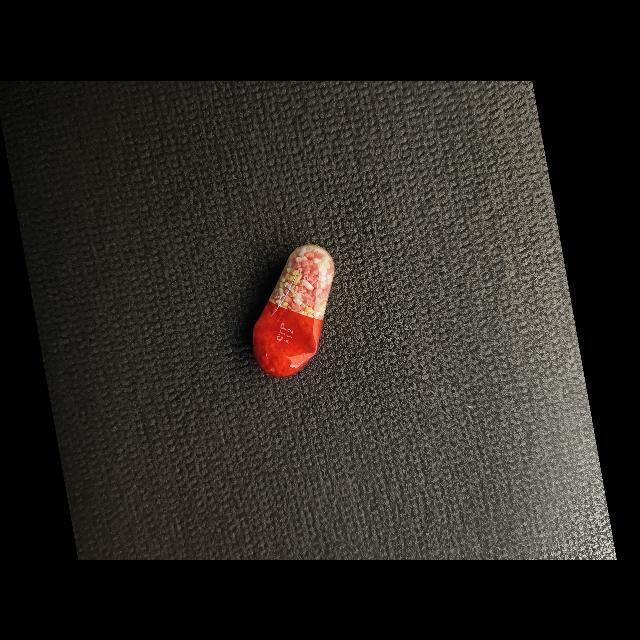Defective Capsule: (252, 244, 335, 376)
